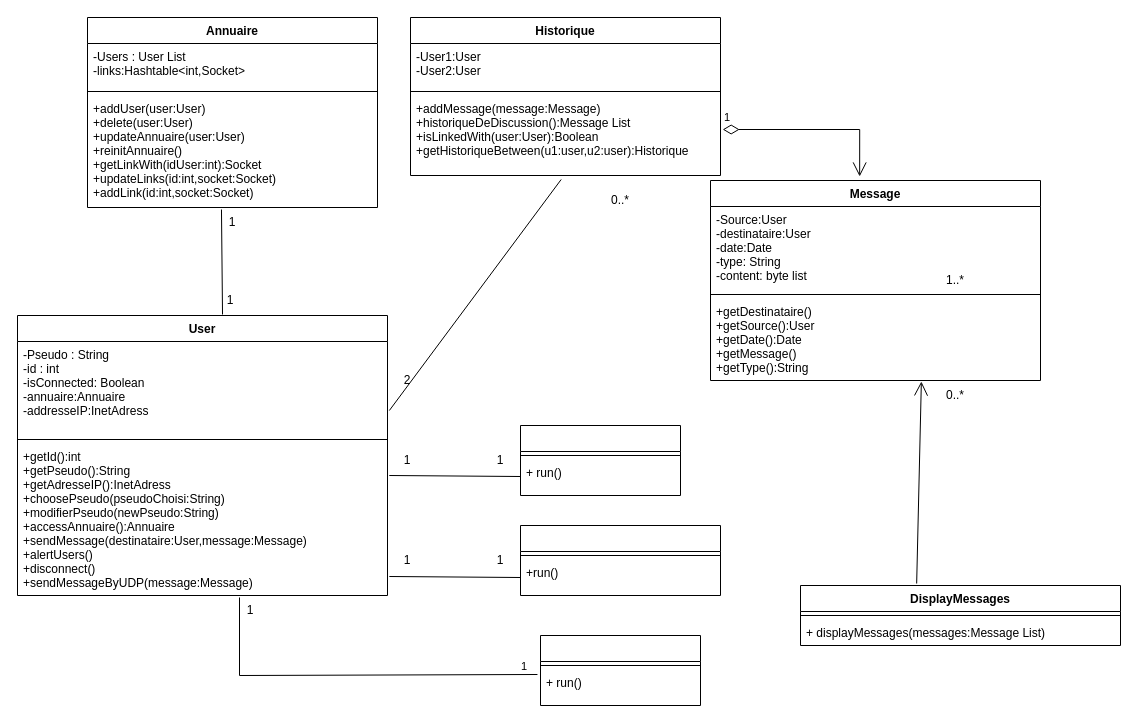
Some shapes in this 1138 by 726 pixel diagram are drawn without their labels. The box of each missing label's shape, as (x1, y1, x2, y2) in pixels:
TcpAccept: (520, 524, 720, 596)
TcpReceive: (540, 634, 700, 706)
UDPReceive: (520, 424, 680, 496)
